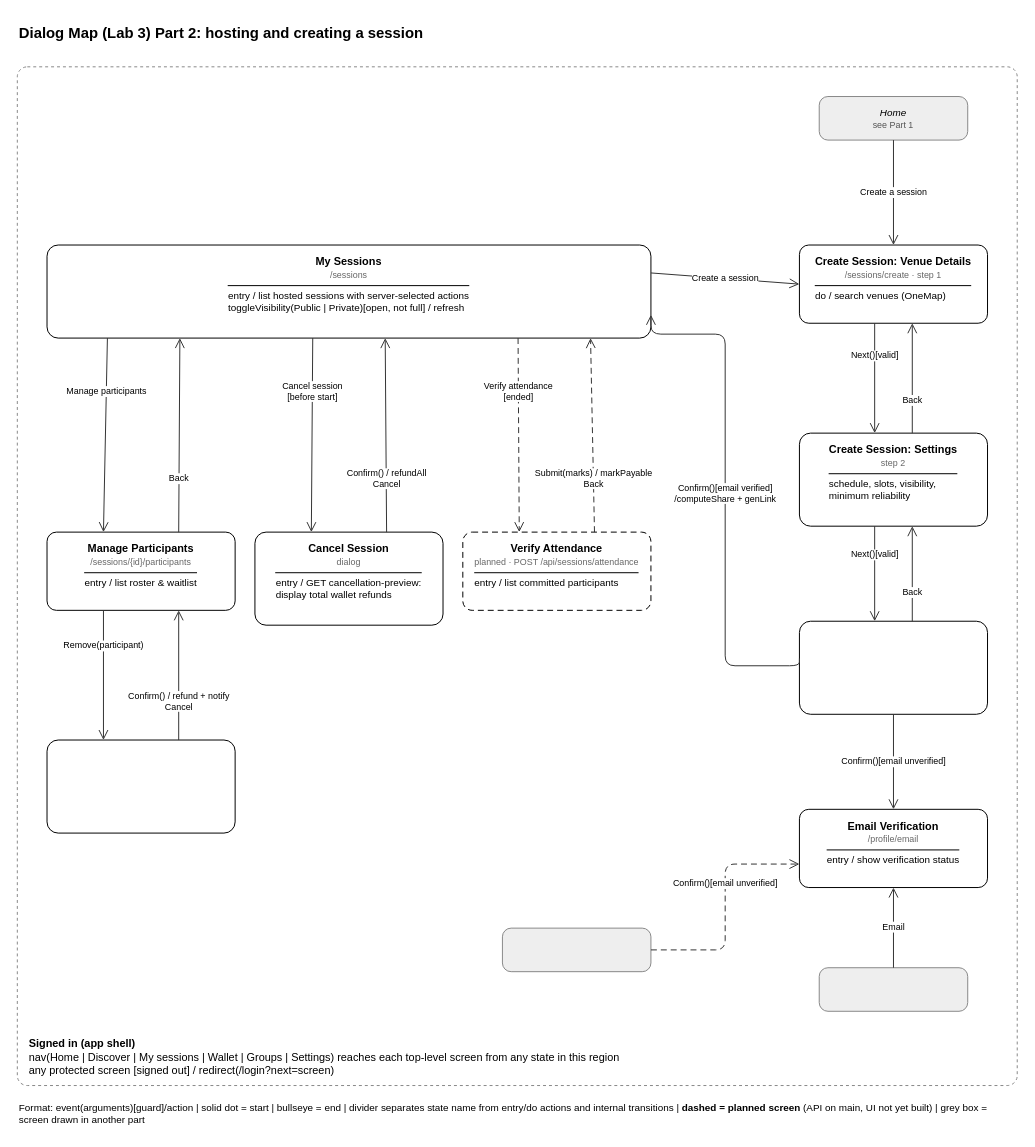
The diagram is 1035 pixels wide and 1147 high, and some of its shapes have lost their labels. Each missing label, with the box of its shape:
Create Session: Booking Share step 3 entry / compute booking share server-side: (798, 620, 988, 714)
Join Confirmation see Part 1: (501, 927, 651, 972)
Remove Participant dialog entry / GET removal-preview: display wallet refund: (46, 739, 235, 833)
Settings see Part 3: (818, 967, 968, 1011)
